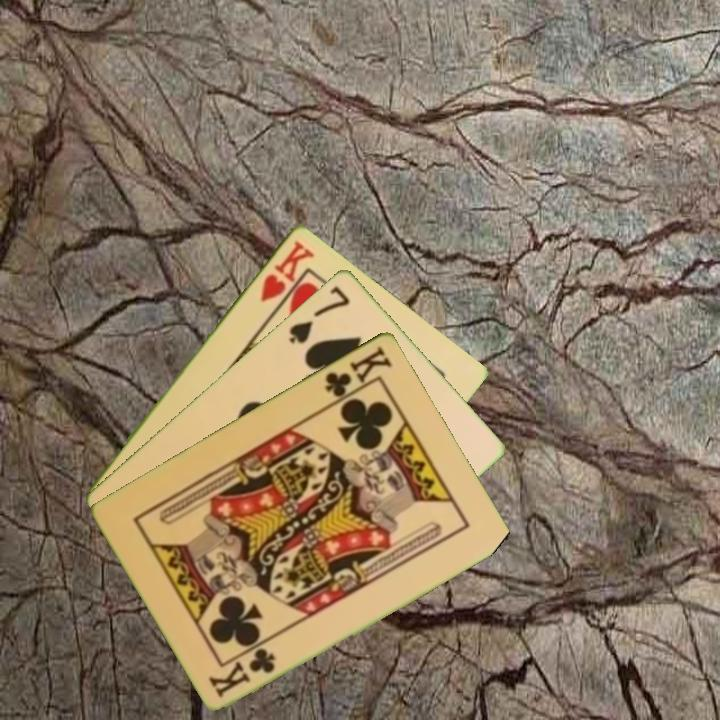7s: (285, 282, 353, 347)
Kc: (321, 342, 395, 407), (206, 645, 279, 700)
Kh: (256, 236, 317, 304)
